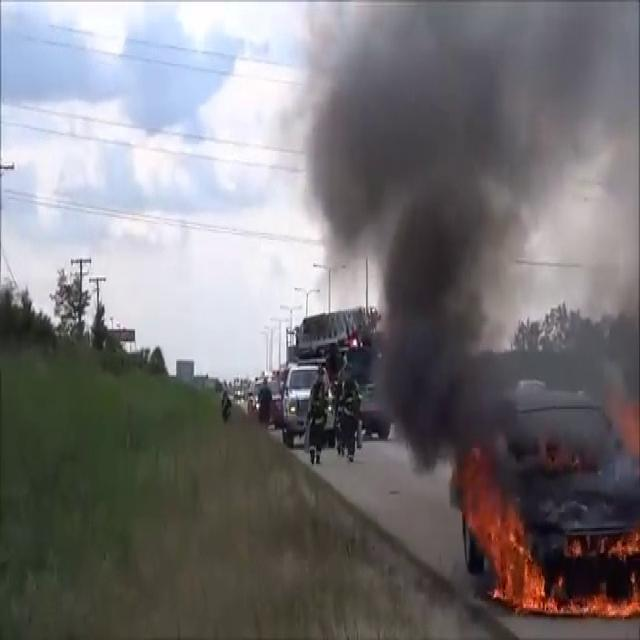Fire: (464, 480, 640, 622)
Smoke: (308, 2, 606, 474)
